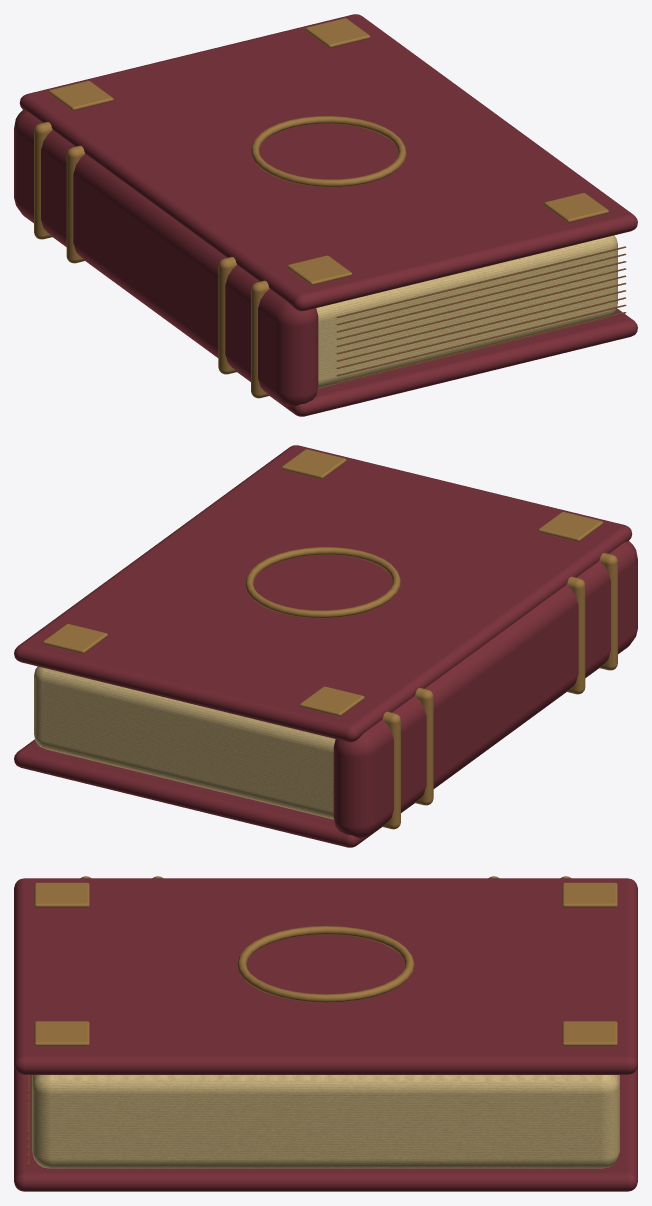
Rendered from antique-book.glb.
The picture shows the model from 3 angles, top to bottom: view 1: azimuth 30°, elevation 25°; view 2: azimuth 150°, elevation 25°; view 3: azimuth 270°, elevation 25°; orthographic projection. The views are drawn at different scales.
Parts seen in each view (by area): view 1: antique-book; view 2: antique-book; view 3: antique-book.
Part boxes in pixels (left/top/right/bottom): antique-book: left=14, top=14, right=637, bottom=416; antique-book: left=14, top=445, right=637, bottom=847; antique-book: left=14, top=876, right=637, bottom=1191.
Bounding box in the file's own units: 0.19 × 0.065 × 0.26.
4 materials, 2 textured.
